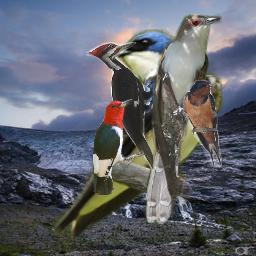Cuckoo: (143, 11, 223, 224)
Swallow: (51, 29, 224, 240), (183, 80, 222, 168)
Woodpecker: (86, 42, 153, 173), (92, 99, 144, 195)
